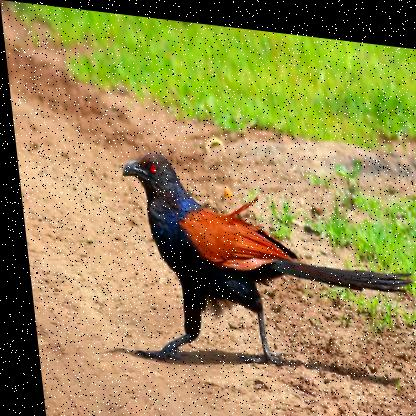Burung: (110, 145, 415, 383)
